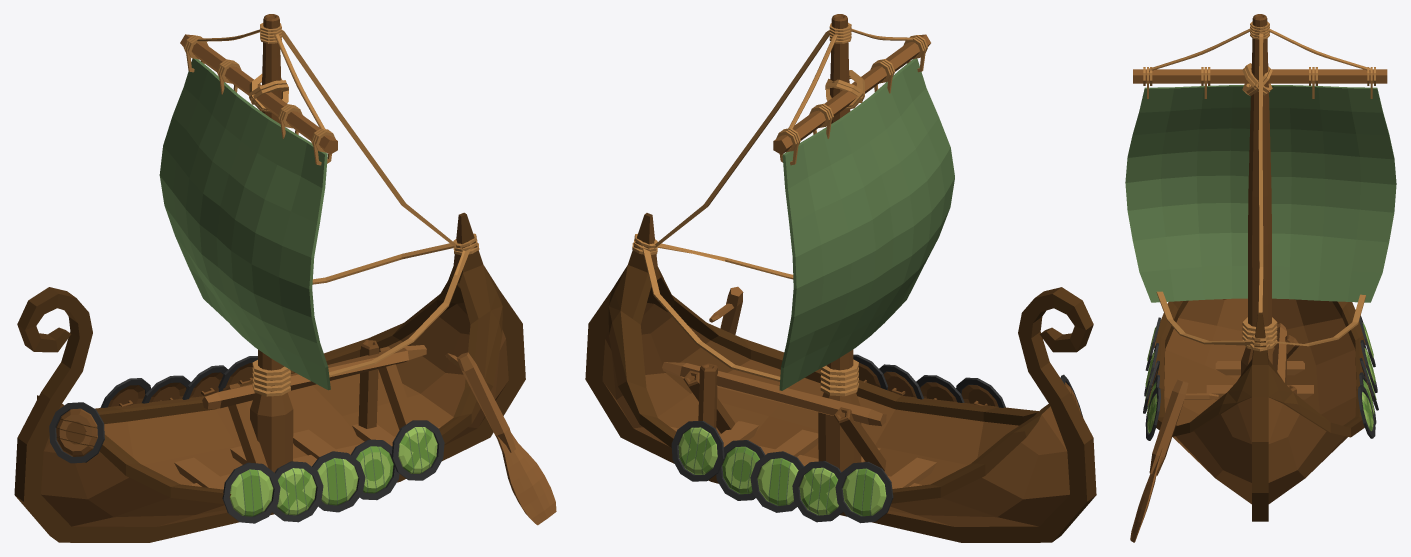
Rendered from D_Knarr_Green.fbx.
The picture shows the model from 3 angles, left to right: view 1: azimuth 30°, elevation 25°; view 2: azimuth 150°, elevation 25°; view 3: azimuth 270°, elevation 25°; orthographic projection. The views are drawn at different scales.
Parts seen in each view (by area): view 1: D_Knarr_Green, D_Knarr__Sail_Green, D_Knarr_B_Oar.001; view 2: D_Knarr_Green, D_Knarr__Sail_Green, D_Knarr_B_Oar.001; view 3: D_Knarr__Sail_Green, D_Knarr_Green, D_Knarr_B_Oar.001.
Part boxes in pixels (left/top/right/bottom): D_Knarr_Green: left=14, top=14, right=525, bottom=542; D_Knarr__Sail_Green: left=159, top=58, right=330, bottom=390; D_Knarr_B_Oar.001: left=445, top=352, right=556, bottom=525; D_Knarr_Green: left=585, top=14, right=1096, bottom=542; D_Knarr__Sail_Green: left=779, top=58, right=954, bottom=390; D_Knarr_B_Oar.001: left=709, top=286, right=743, bottom=334; D_Knarr__Sail_Green: left=1125, top=85, right=1396, bottom=302; D_Knarr_Green: left=1133, top=14, right=1387, bottom=521; D_Knarr_B_Oar.001: left=1130, top=379, right=1218, bottom=542.
Bounding box in the file's own units: 703 × 671 × 374.
